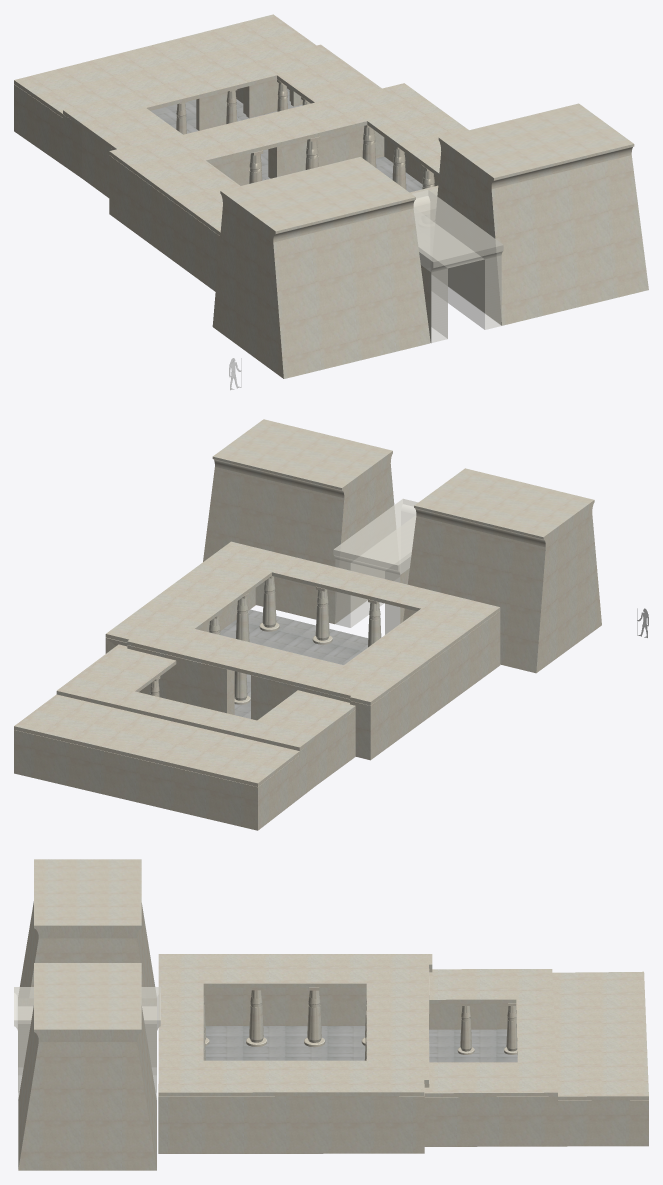
Rendered from Nesdjehuty.obj.
3 renders of one model, top to bottom at view 1: azimuth 30°, elevation 25°; view 2: azimuth 150°, elevation 25°; view 3: azimuth 270°, elevation 25°, orthographic. The views are drawn at different scales.
Parts seen in each view (by area): view 1: Mesh42 Component_11_2 Model, Mesh41 Component_11_1 Model, Mesh22 Roof1 Component_5_1 Model, Mesh40 Component_5_1 Model, Mesh23 Roof1 Component_5_1 Model, Mesh1 Component_3_1 Model; view 2: Mesh40 Component_5_1 Model, Mesh42 Component_11_2 Model, Mesh23 Roof1 Component_5_1 Model, Mesh41 Component_11_1 Model, Mesh22 Roof1 Component_5_1 Model, Mesh1 Component_3_1 Model, Mesh20 column_1_10 Component_5_1 Model, Mesh28 column_1_13 Component_5_1 Model; view 3: Mesh40 Component_5_1 Model, Mesh23 Roof1 Component_5_1 Model, Mesh41 Component_11_1 Model, Mesh22 Roof1 Component_5_1 Model, Mesh42 Component_11_2 Model, Mesh1 Component_3_1 Model, Mesh12 column_1_6 Component_5_1 Model, Mesh26 column_1_12 Component_5_1 Model, Mesh10 column_1_5 Component_5_1 Model, Mesh6 column_1_3 Component_5_1 Model.
Boxes of the visible parts, bbox=[...] form: Mesh42 Component_11_2 Model: bbox=[212, 157, 430, 378]; Mesh41 Component_11_1 Model: bbox=[435, 103, 648, 325]; Mesh22 Roof1 Component_5_1 Model: bbox=[14, 14, 381, 149]; Mesh40 Component_5_1 Model: bbox=[14, 79, 438, 291]; Mesh23 Roof1 Component_5_1 Model: bbox=[109, 83, 468, 235]; Mesh1 Component_3_1 Model: bbox=[412, 190, 503, 343]; Mesh40 Component_5_1 Model: bbox=[14, 588, 500, 830]; Mesh42 Component_11_2 Model: bbox=[403, 468, 601, 673]; Mesh23 Roof1 Component_5_1 Model: bbox=[105, 541, 500, 705]; Mesh41 Component_11_1 Model: bbox=[203, 419, 395, 624]; Mesh22 Roof1 Component_5_1 Model: bbox=[14, 644, 355, 786]; Mesh1 Component_3_1 Model: bbox=[333, 498, 417, 634]; Mesh20 column_1_10 Component_5_1 Model: bbox=[312, 590, 332, 644]; Mesh28 column_1_13 Component_5_1 Model: bbox=[259, 577, 279, 631]; Mesh40 Component_5_1 Model: bbox=[158, 968, 648, 1153]; Mesh23 Roof1 Component_5_1 Model: bbox=[158, 954, 432, 1096]; Mesh41 Component_11_1 Model: bbox=[18, 963, 156, 1170]; Mesh22 Roof1 Component_5_1 Model: bbox=[424, 969, 648, 1100]; Mesh42 Component_11_2 Model: bbox=[18, 859, 156, 997]; Mesh1 Component_3_1 Model: bbox=[14, 987, 160, 1099]; Mesh12 column_1_6 Component_5_1 Model: bbox=[304, 990, 325, 1047]; Mesh26 column_1_12 Component_5_1 Model: bbox=[246, 990, 266, 1046]; Mesh10 column_1_5 Component_5_1 Model: bbox=[457, 1006, 474, 1054]; Mesh6 column_1_3 Component_5_1 Model: bbox=[504, 1006, 517, 1054].
Bounding box in the file's own units: 22.27 × 7.22 × 30.08.
